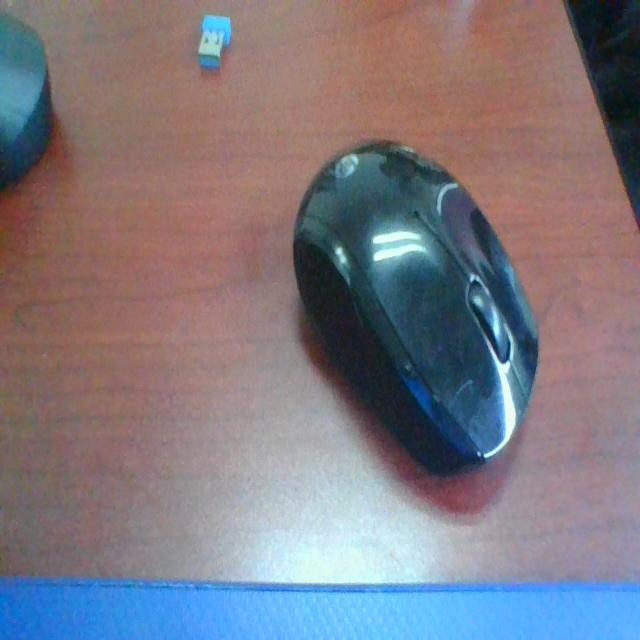mouse: (286, 123, 555, 510)
